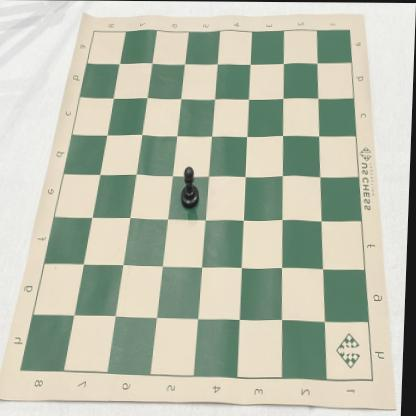black-pawn: (181, 166, 202, 209)
